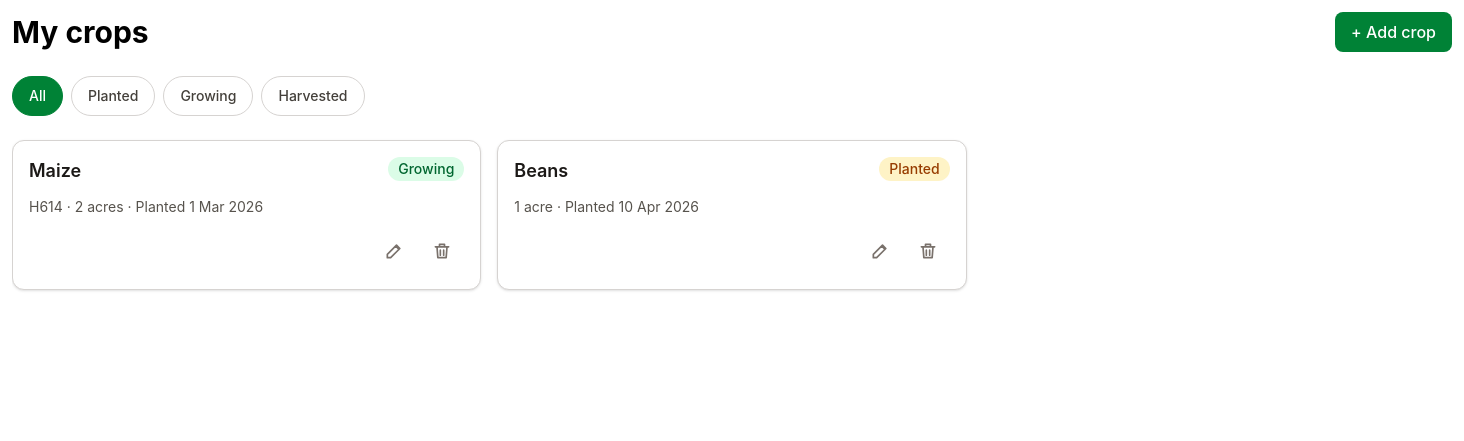
Test case: Crops page › filters the crops by status
What coordinates should you click on to do the following:
click the button "Growing"
I would click on:
 (208, 96)
Its box is [163,76,254,116].
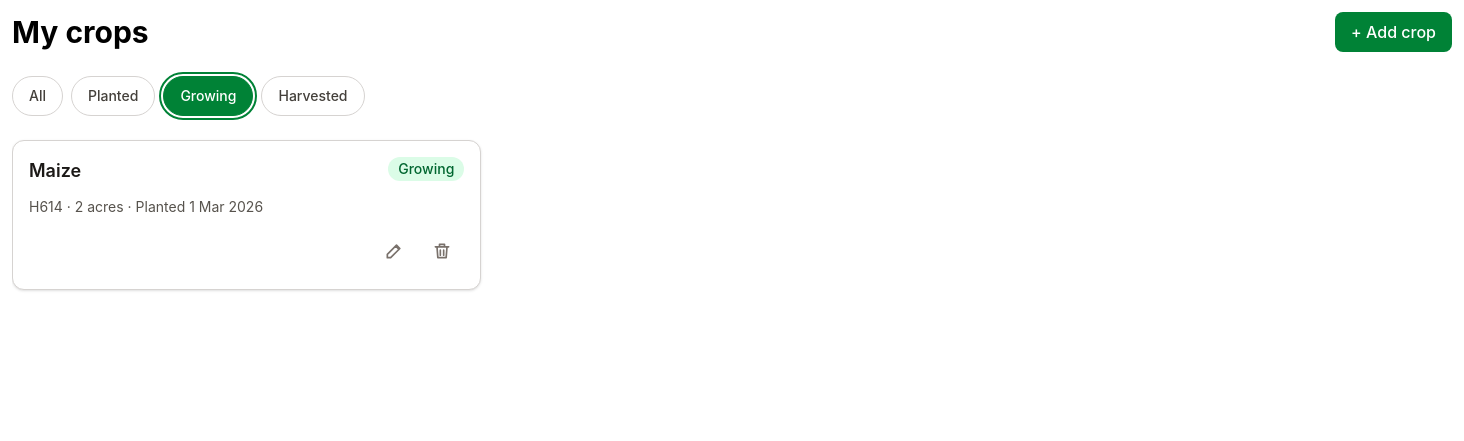
Expected: the link "Maize" is shown, [29,160,81,181]
Expected: the link "Beans" is gone
What coordinates should you click on to do the following:
click the button "Harvested"
I would click on:
 (313, 96)
Its box is [262,76,365,116].
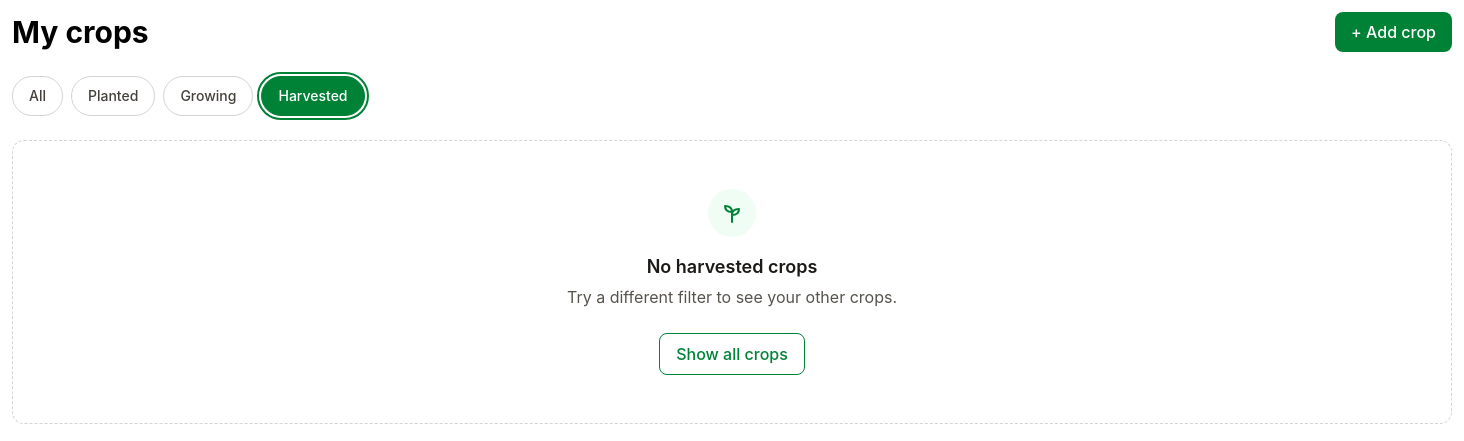
Expected: the heading "No harvested crops" is shown, [647,253,817,281]
